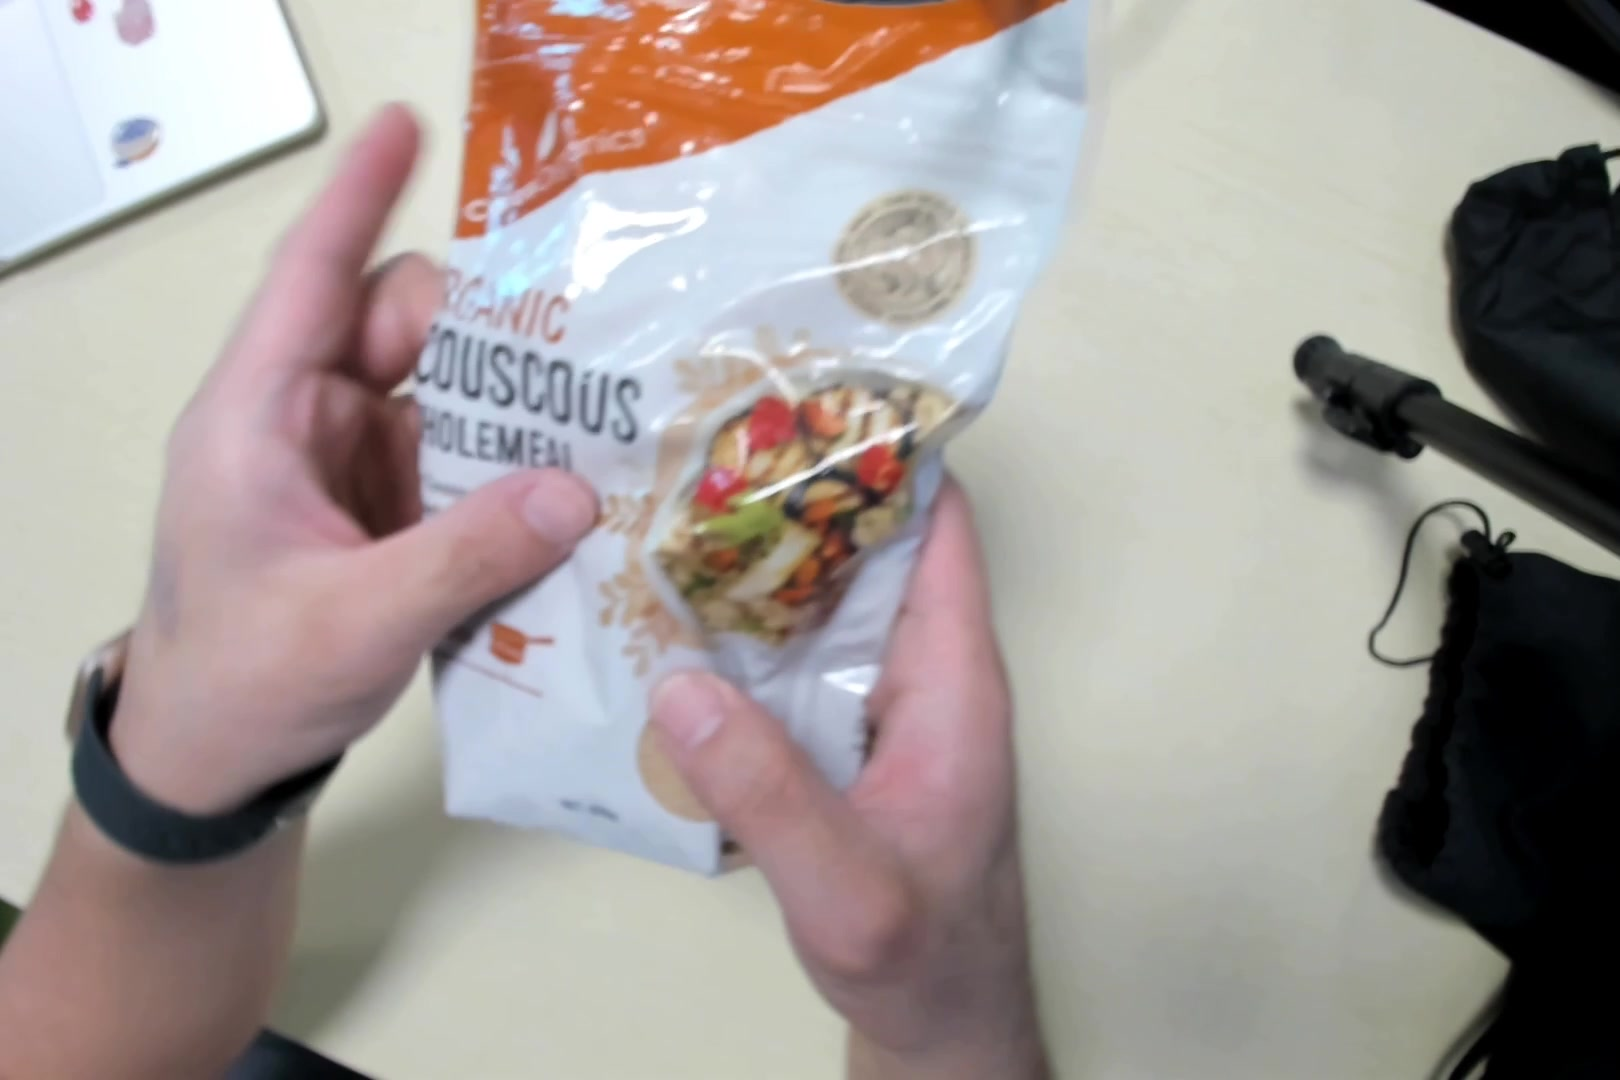Rice(BrownOthers)_300-399g_NonHalal_NonHealthy: (416, 4, 1085, 884)
